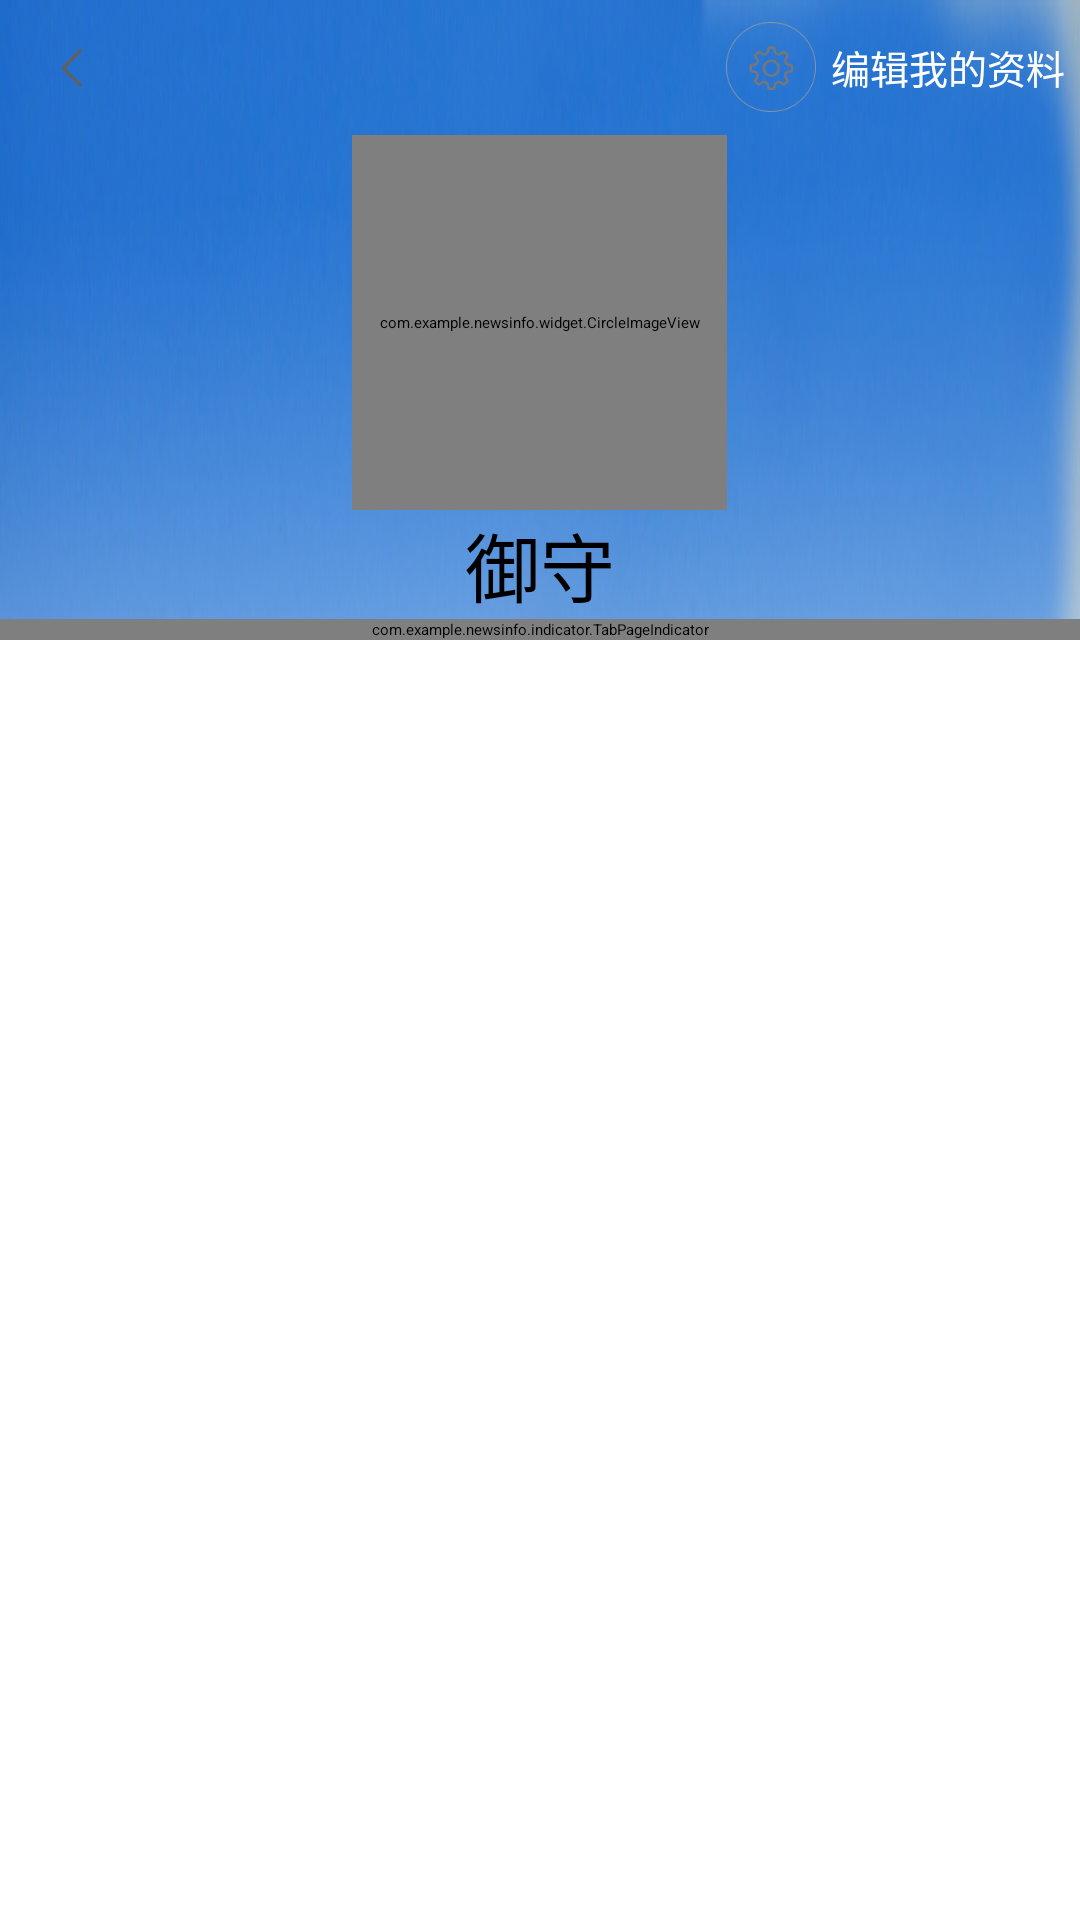

Icon click points for this 1080 × 1920 phone screenshot, format (x,y):
explore back: (71,68)
profile setting: (771,67)
